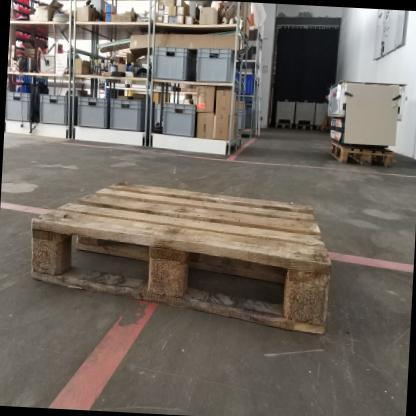pallet: (29, 179, 333, 338), (327, 138, 392, 168)
